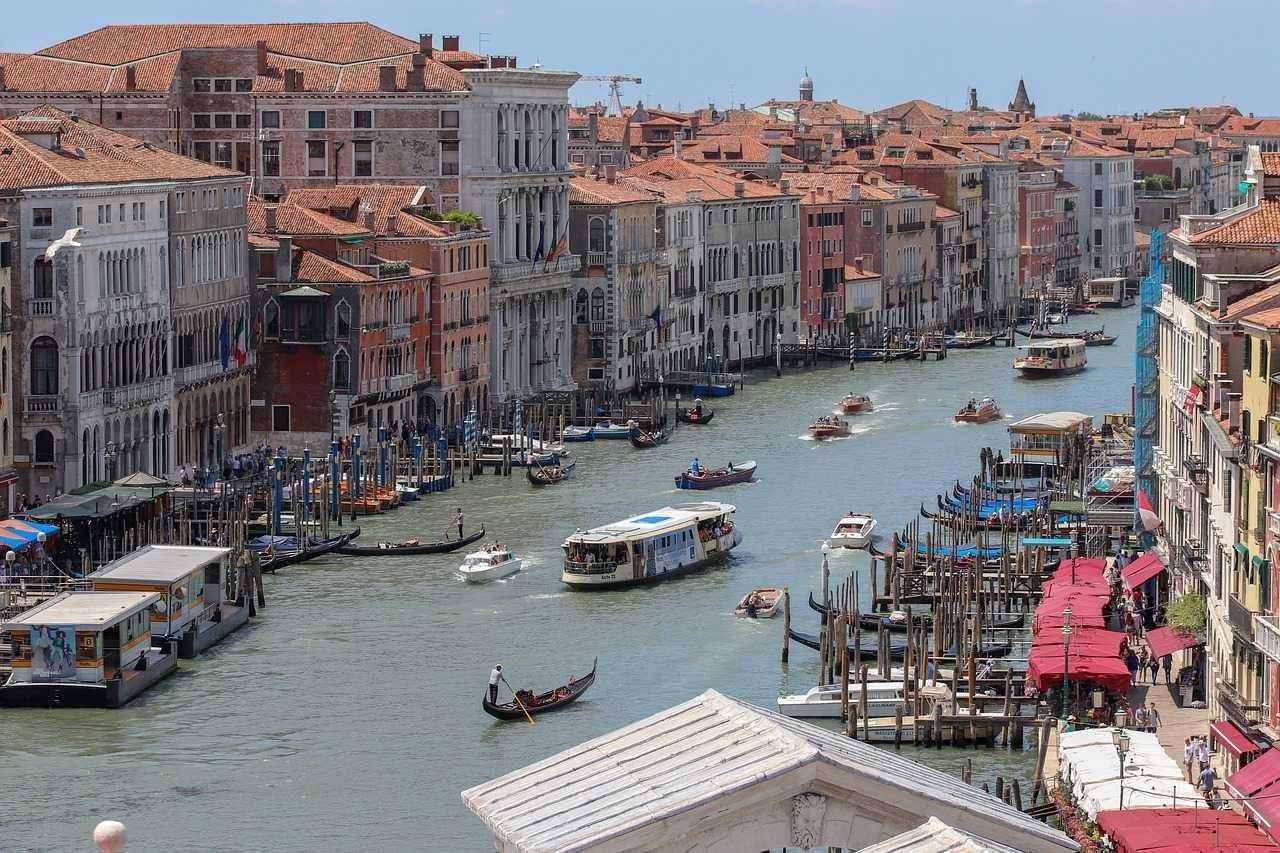kayak: (0, 587, 179, 709), (85, 542, 253, 660), (561, 497, 743, 590), (482, 656, 598, 724), (330, 527, 488, 558), (1013, 338, 1088, 378), (672, 458, 757, 490), (458, 544, 523, 584), (828, 511, 878, 549), (734, 585, 788, 618), (954, 394, 1002, 424), (527, 454, 573, 485), (806, 412, 851, 438), (836, 393, 875, 414), (681, 400, 715, 424), (1081, 327, 1118, 346)
